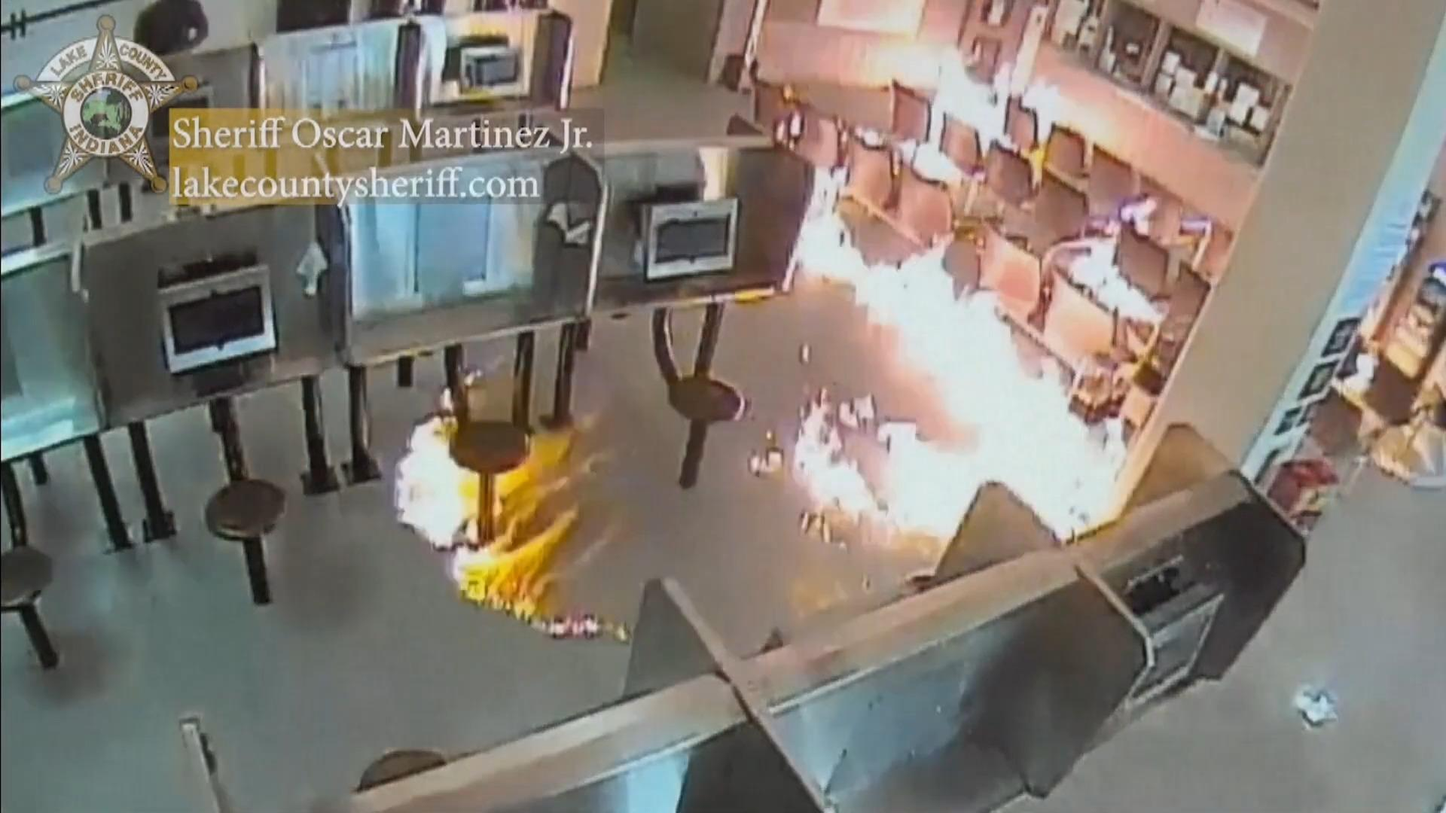fire: (749, 47, 1165, 551), (394, 361, 630, 638)
